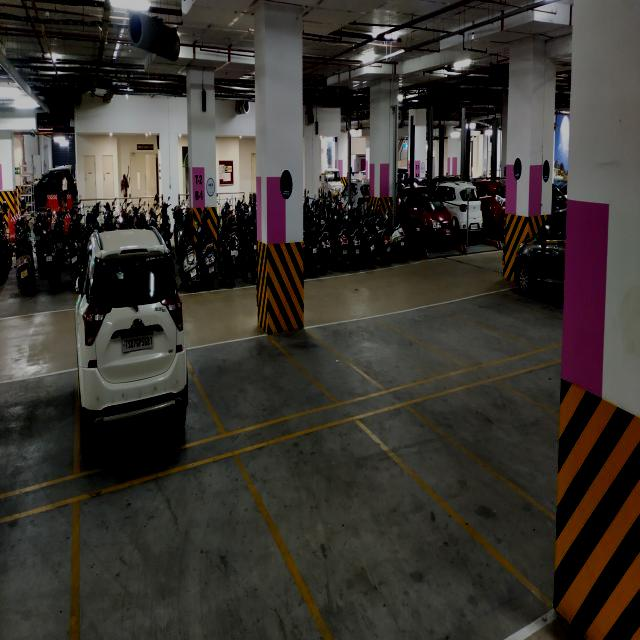car: (78, 363, 188, 454), (525, 238, 565, 300)
free: (94, 482, 246, 638), (291, 474, 445, 616), (448, 374, 560, 478), (5, 504, 65, 632), (201, 347, 297, 419), (4, 384, 62, 492), (342, 322, 417, 376), (438, 313, 498, 363)
